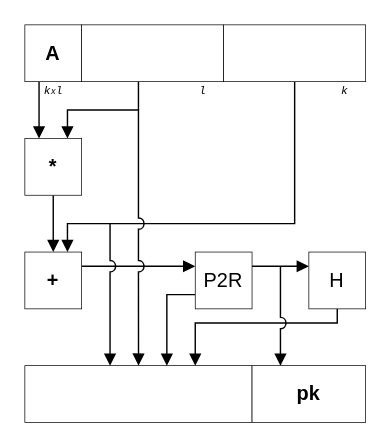
The diagram is 391 pixels wide and 447 high, and some of its shapes have lost their labels. Each missing label, with the centre of its shape:
"s 1" goes at (x=152, y=52).
"s 2" goes at (x=294, y=52).
"sk" goes at (x=138, y=393).
